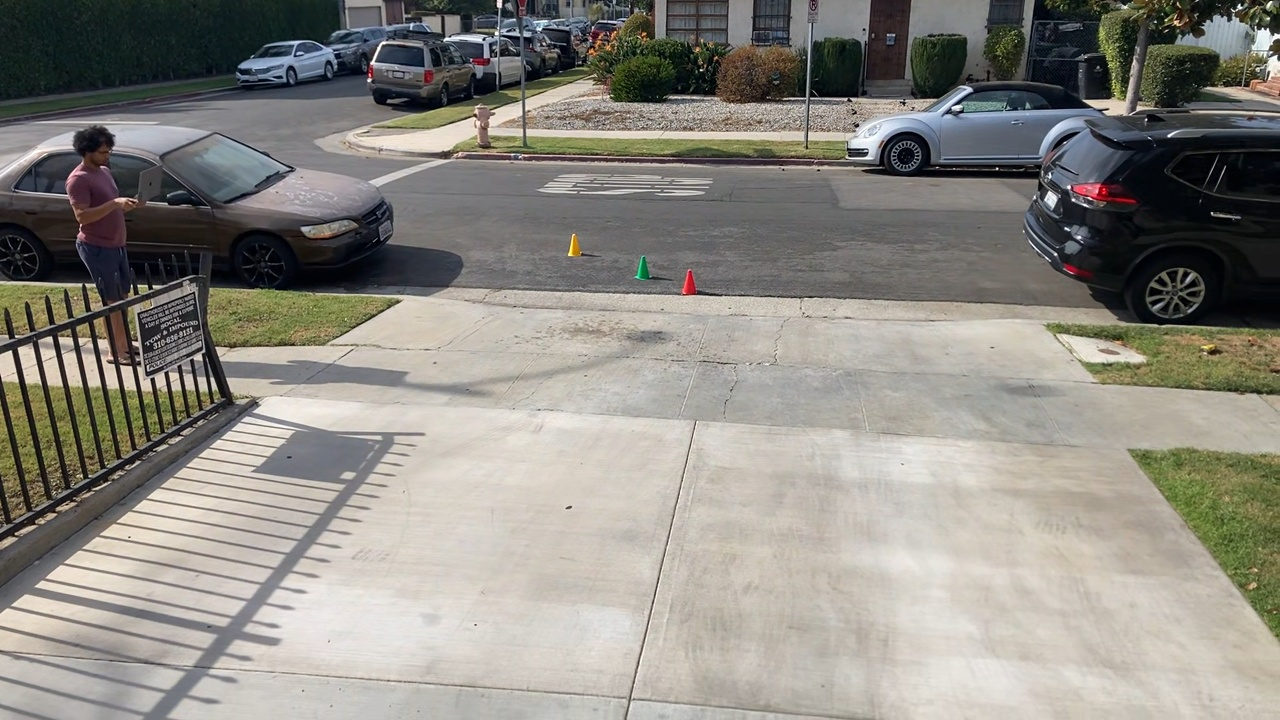green_cone: (633, 250, 658, 280)
red_cone: (678, 268, 701, 300)
yellow_cone: (566, 230, 586, 260)
